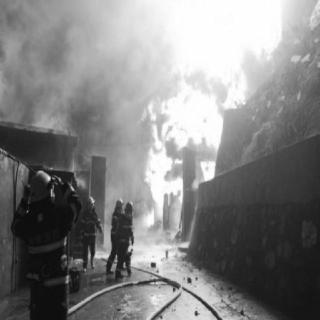Smoke: (1, 2, 146, 212)
